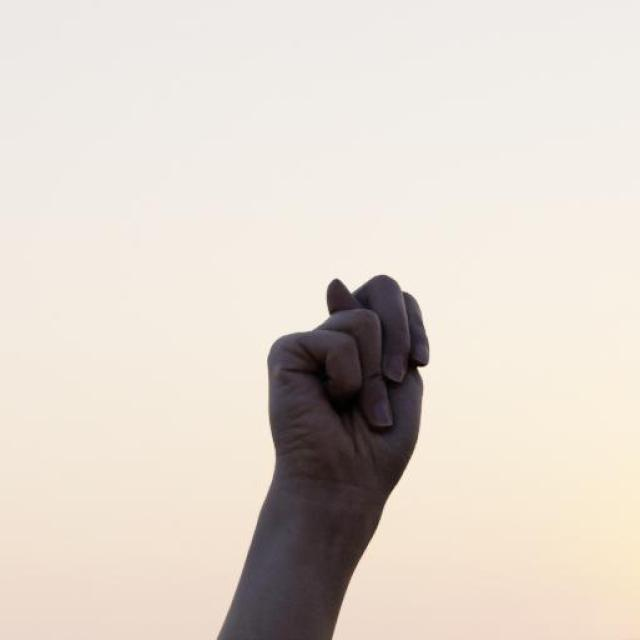N: (267, 274, 433, 485)
